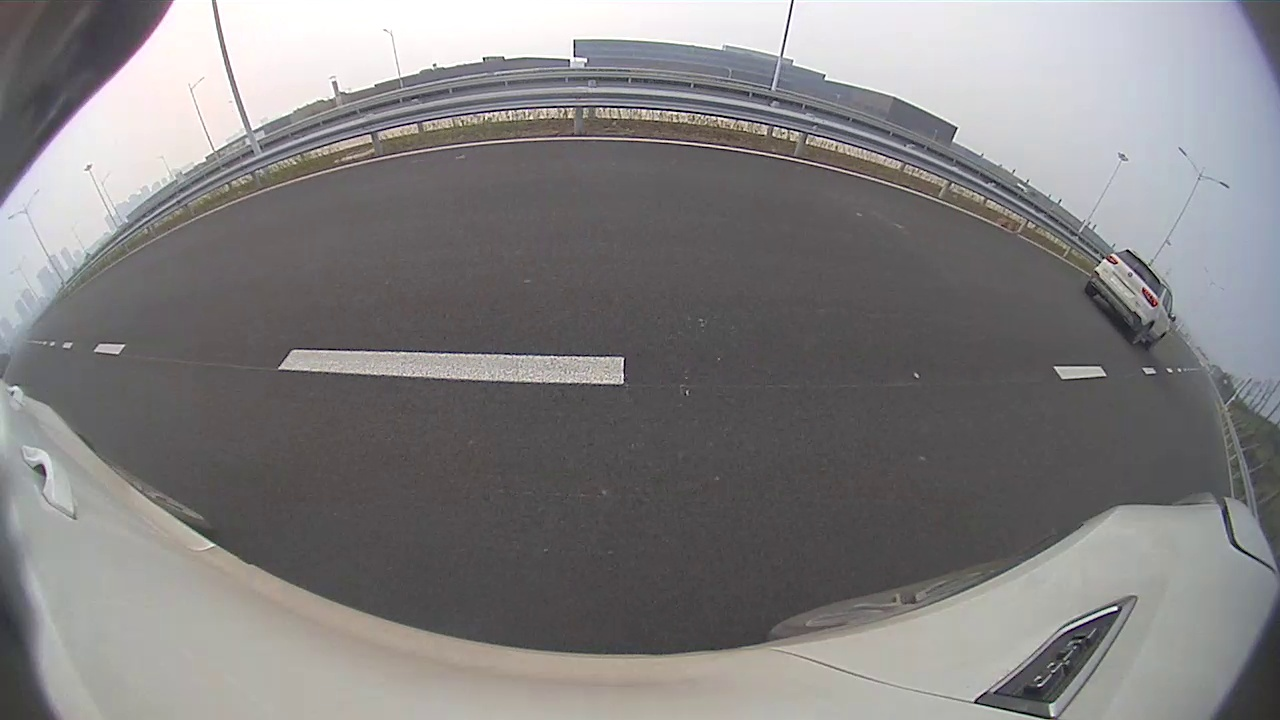car: (702, 149, 768, 194)
rear: (715, 173, 723, 191)
